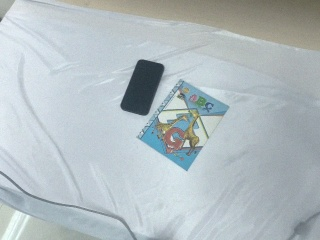book: (136, 79, 230, 172)
phone: (120, 59, 165, 116)
